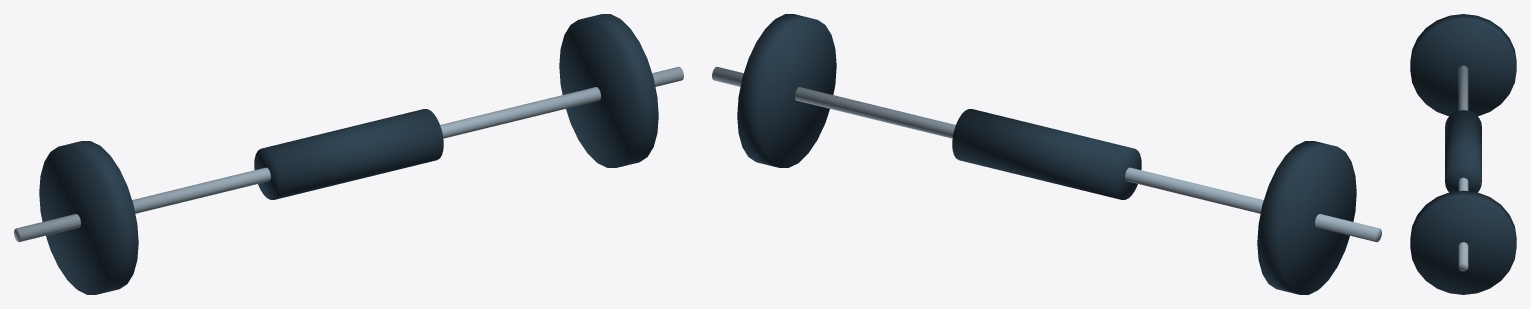
Rendered from barbell_a_barbell_hip_thrust.glb.
3 views of the same model, side by side, from view 1: azimuth 30°, elevation 25°; view 2: azimuth 150°, elevation 25°; view 3: azimuth 270°, elevation 25° (orthographic). The views are drawn at different scales.
Parts seen in each view (by area): view 1: plates, hip_pad, shaft; view 2: plates, hip_pad, shaft; view 3: plates, hip_pad, shaft.
Boxes of the visible parts, x1,y1,x2,y2 form: plates: [39, 14, 658, 294]; hip_pad: [254, 109, 443, 199]; shaft: [14, 66, 683, 242]; plates: [737, 14, 1356, 294]; hip_pad: [952, 109, 1141, 199]; shaft: [712, 66, 1381, 242]; plates: [1410, 14, 1516, 294]; hip_pad: [1445, 110, 1481, 192]; shaft: [1458, 65, 1468, 271].
Bounding box in the file's own units: 1.3 × 0.26 × 0.26.
